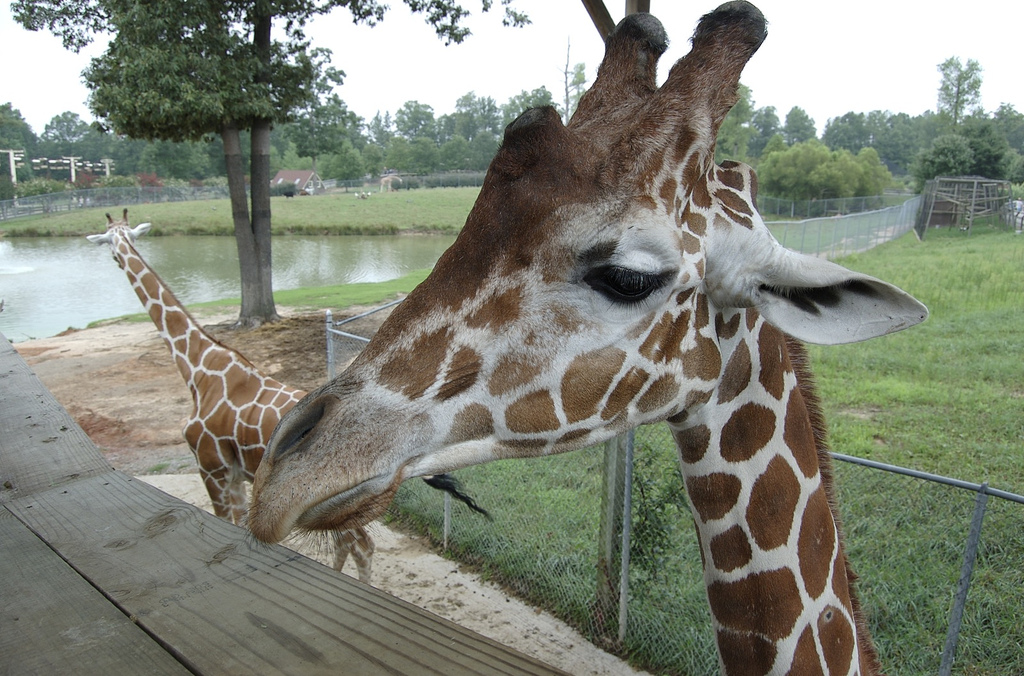giraffe: (271, 34, 894, 648), (91, 190, 371, 535)
